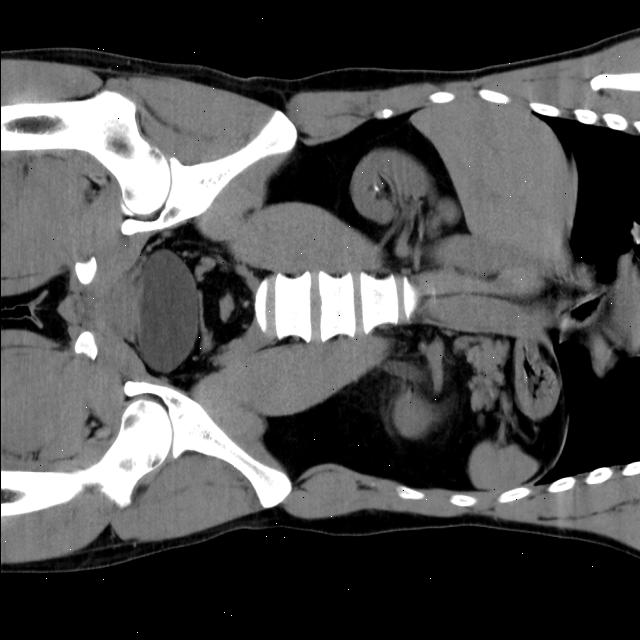kidneystone: (372, 183, 379, 193)
